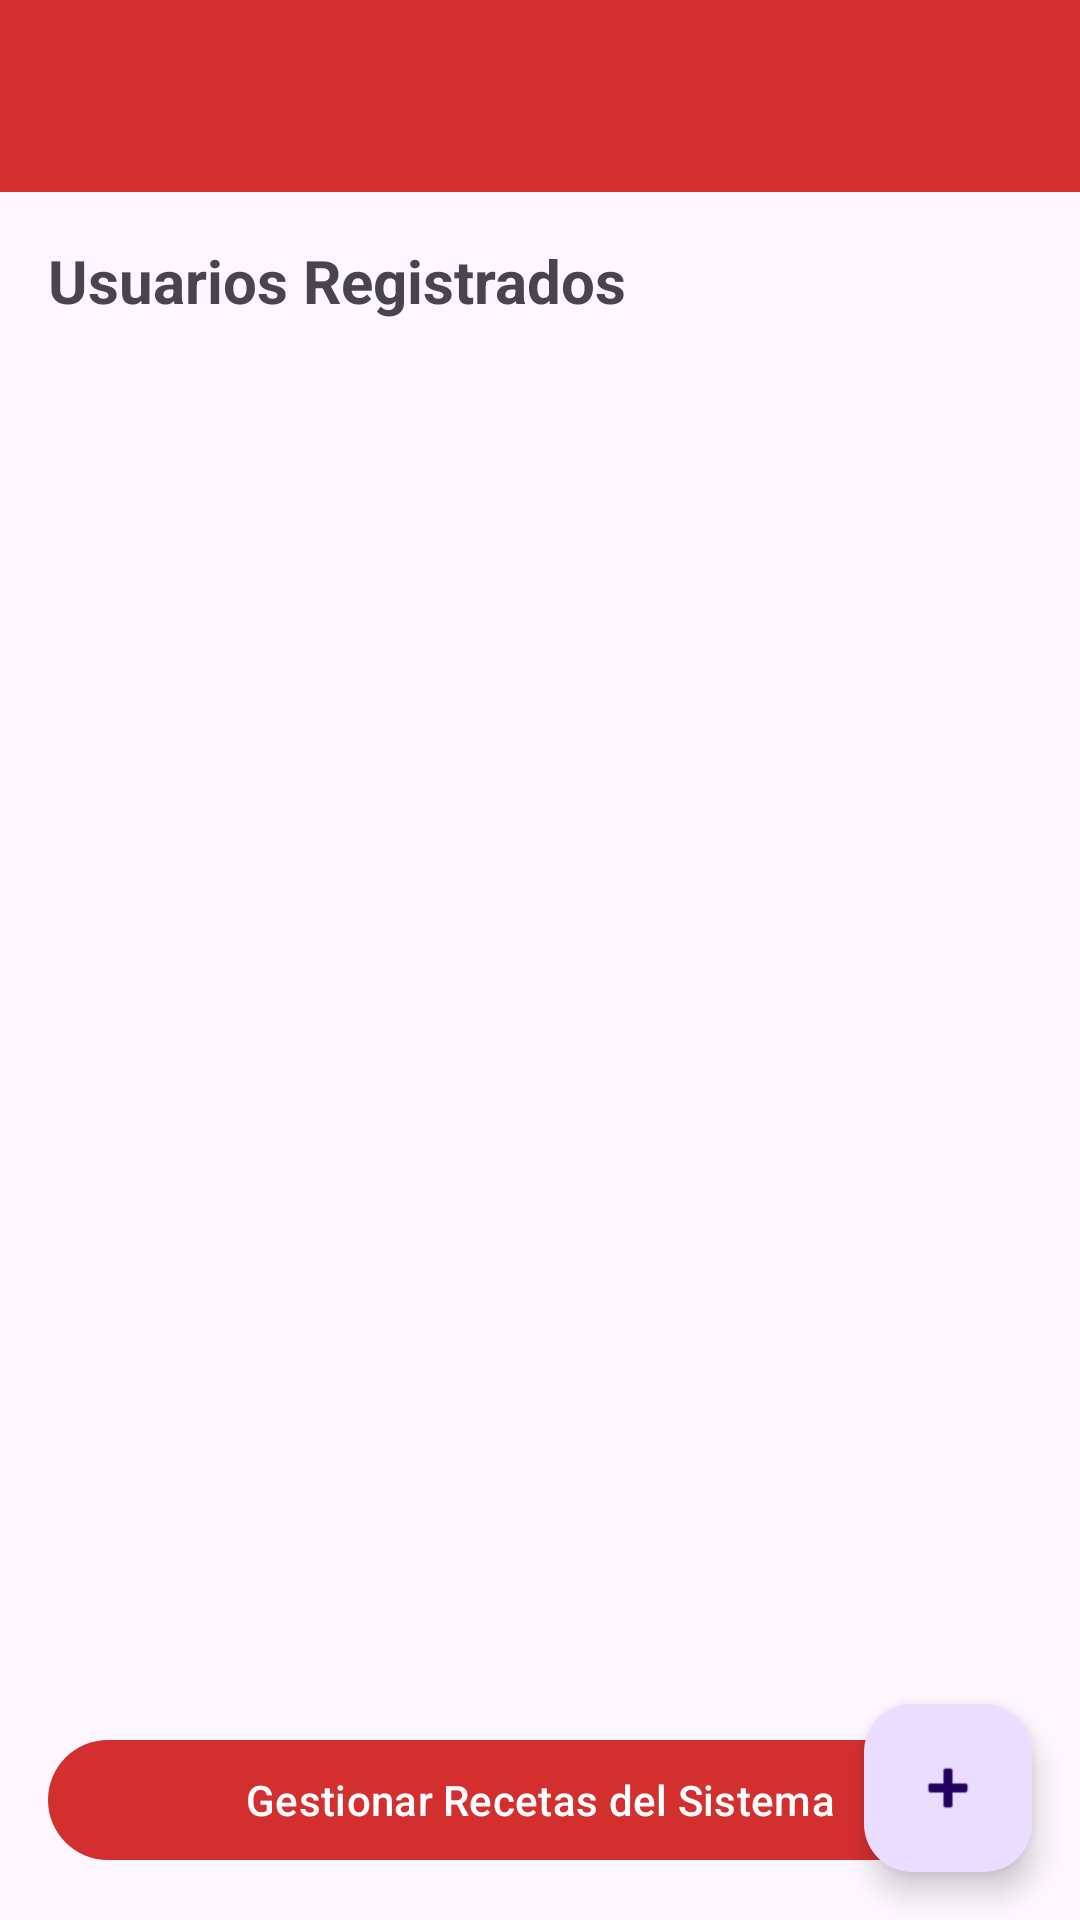

Screen size 1080x1920. Icon name, then its center in pixels as (x=x, y=y):
Agregar Usuario: (x=948, y=1788)
